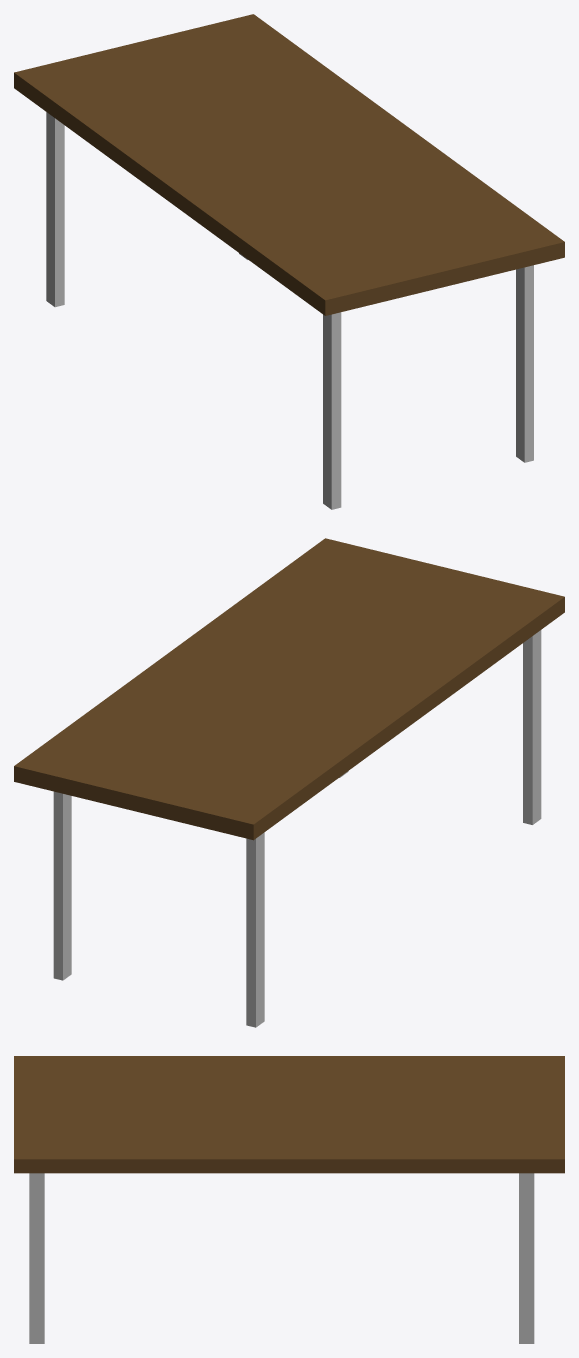
The model's file is G_Table_Dining.fbx.
3 renders of one model, top to bottom at view 1: azimuth 30°, elevation 25°; view 2: azimuth 150°, elevation 25°; view 3: azimuth 270°, elevation 25°, orthographic. The views are drawn at different scales.
Visible parts, largest first — view 1: G_Table_Dining; view 2: G_Table_Dining; view 3: G_Table_Dining.
Boxes of the visible parts, x1=… form: G_Table_Dining: x1=14, y1=14, x2=564, y2=509; G_Table_Dining: x1=14, y1=538, x2=564, y2=1027; G_Table_Dining: x1=14, y1=1056, x2=564, y2=1343.
Bounding box in the file's own units: 80 × 70 × 180.
1 material, 1 textured.
